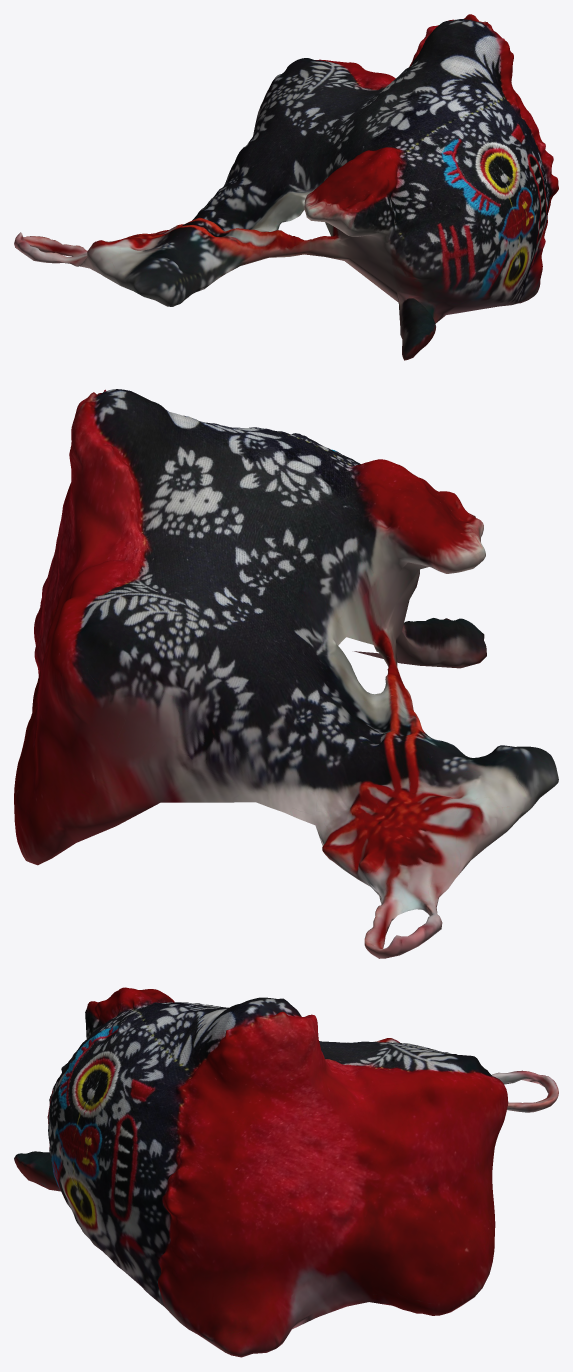
3 views of the same model, one above another, from view 1: azimuth 30°, elevation 25°; view 2: azimuth 150°, elevation 25°; view 3: azimuth 270°, elevation 25° (orthographic). The views are drawn at different scales.
Bounding box in the file's own units: 1.18 × 0.8083 × 1.21.
Materials: 1 (1 with a texture image).
